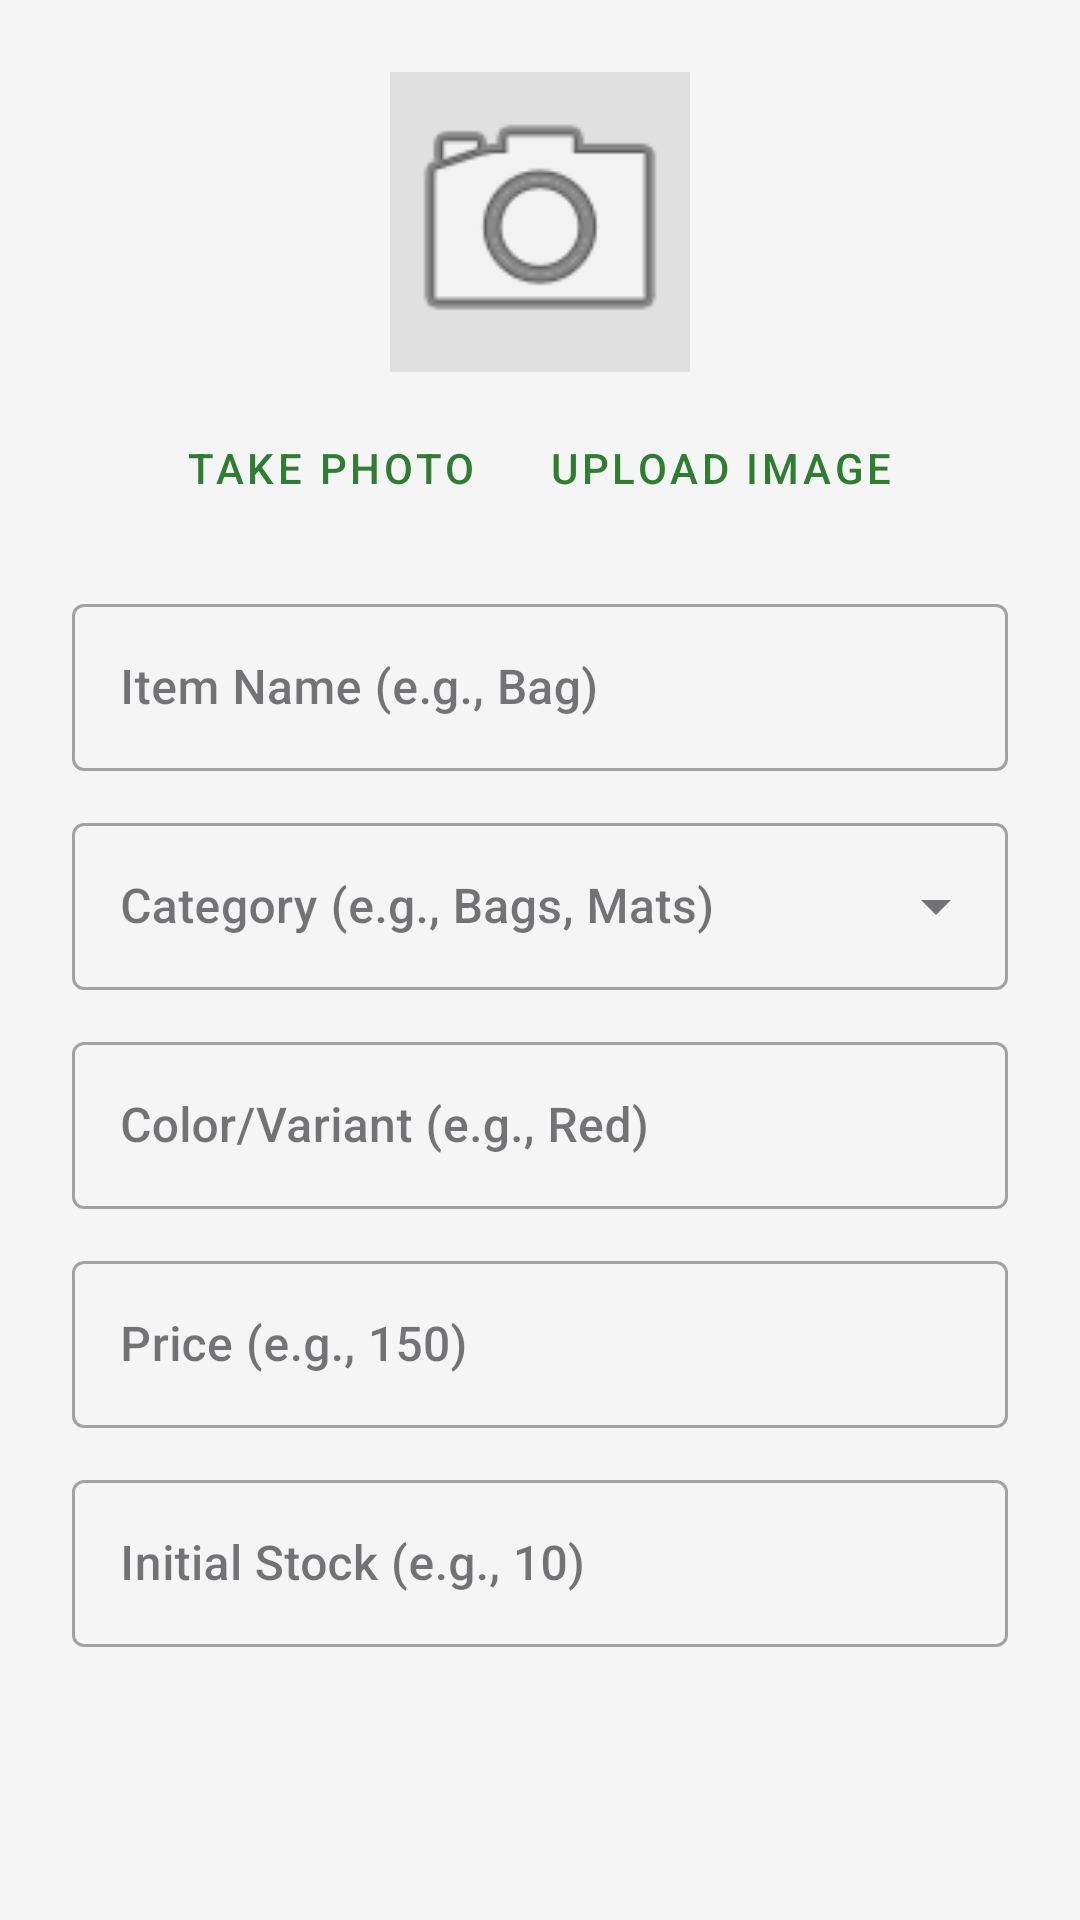

Icons on this 1080 x 1920 Android screen, each with the point to tap as [x,y]:
camera: [540,222]
